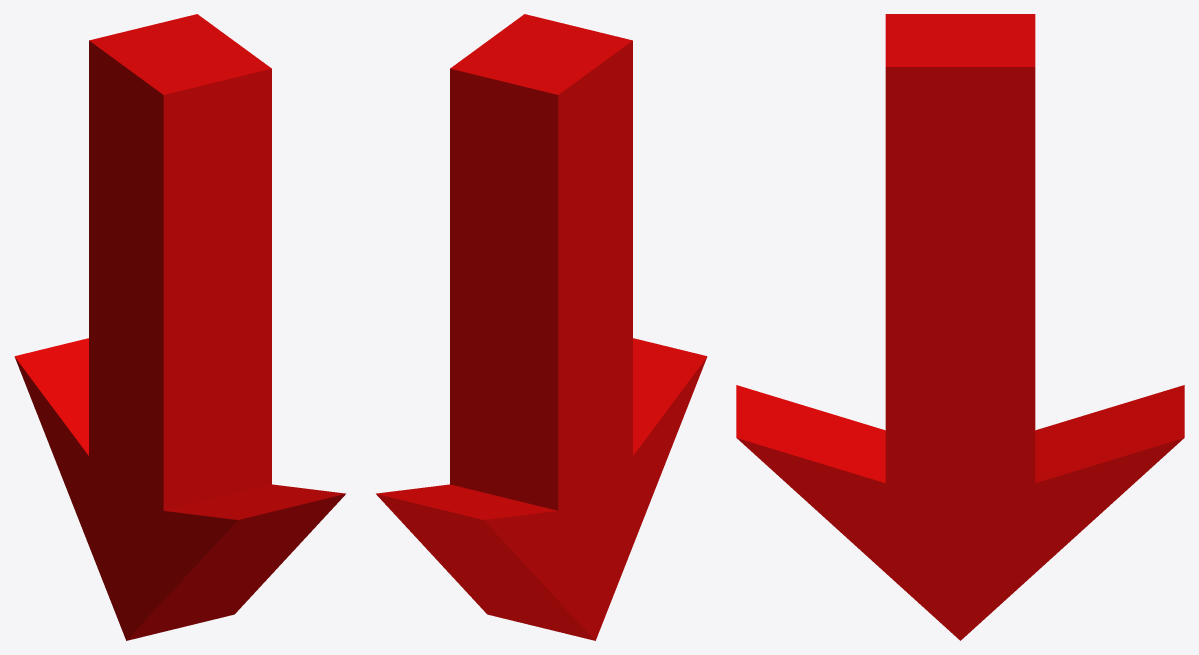
File: Arrow.fbx
3 views of the same model, side by side, from view 1: azimuth 30°, elevation 25°; view 2: azimuth 150°, elevation 25°; view 3: azimuth 270°, elevation 25° (orthographic).
Parts seen in each view (by area): view 1: Cube; view 2: Cube; view 3: Cube.
Boxes of the visible parts, x1,y1,x2,y2 form: Cube: (14,14,345,640); Cube: (376,14,707,640); Cube: (736,14,1184,640).
Size of the model in its own units: 34.72 by 176 by 124.
